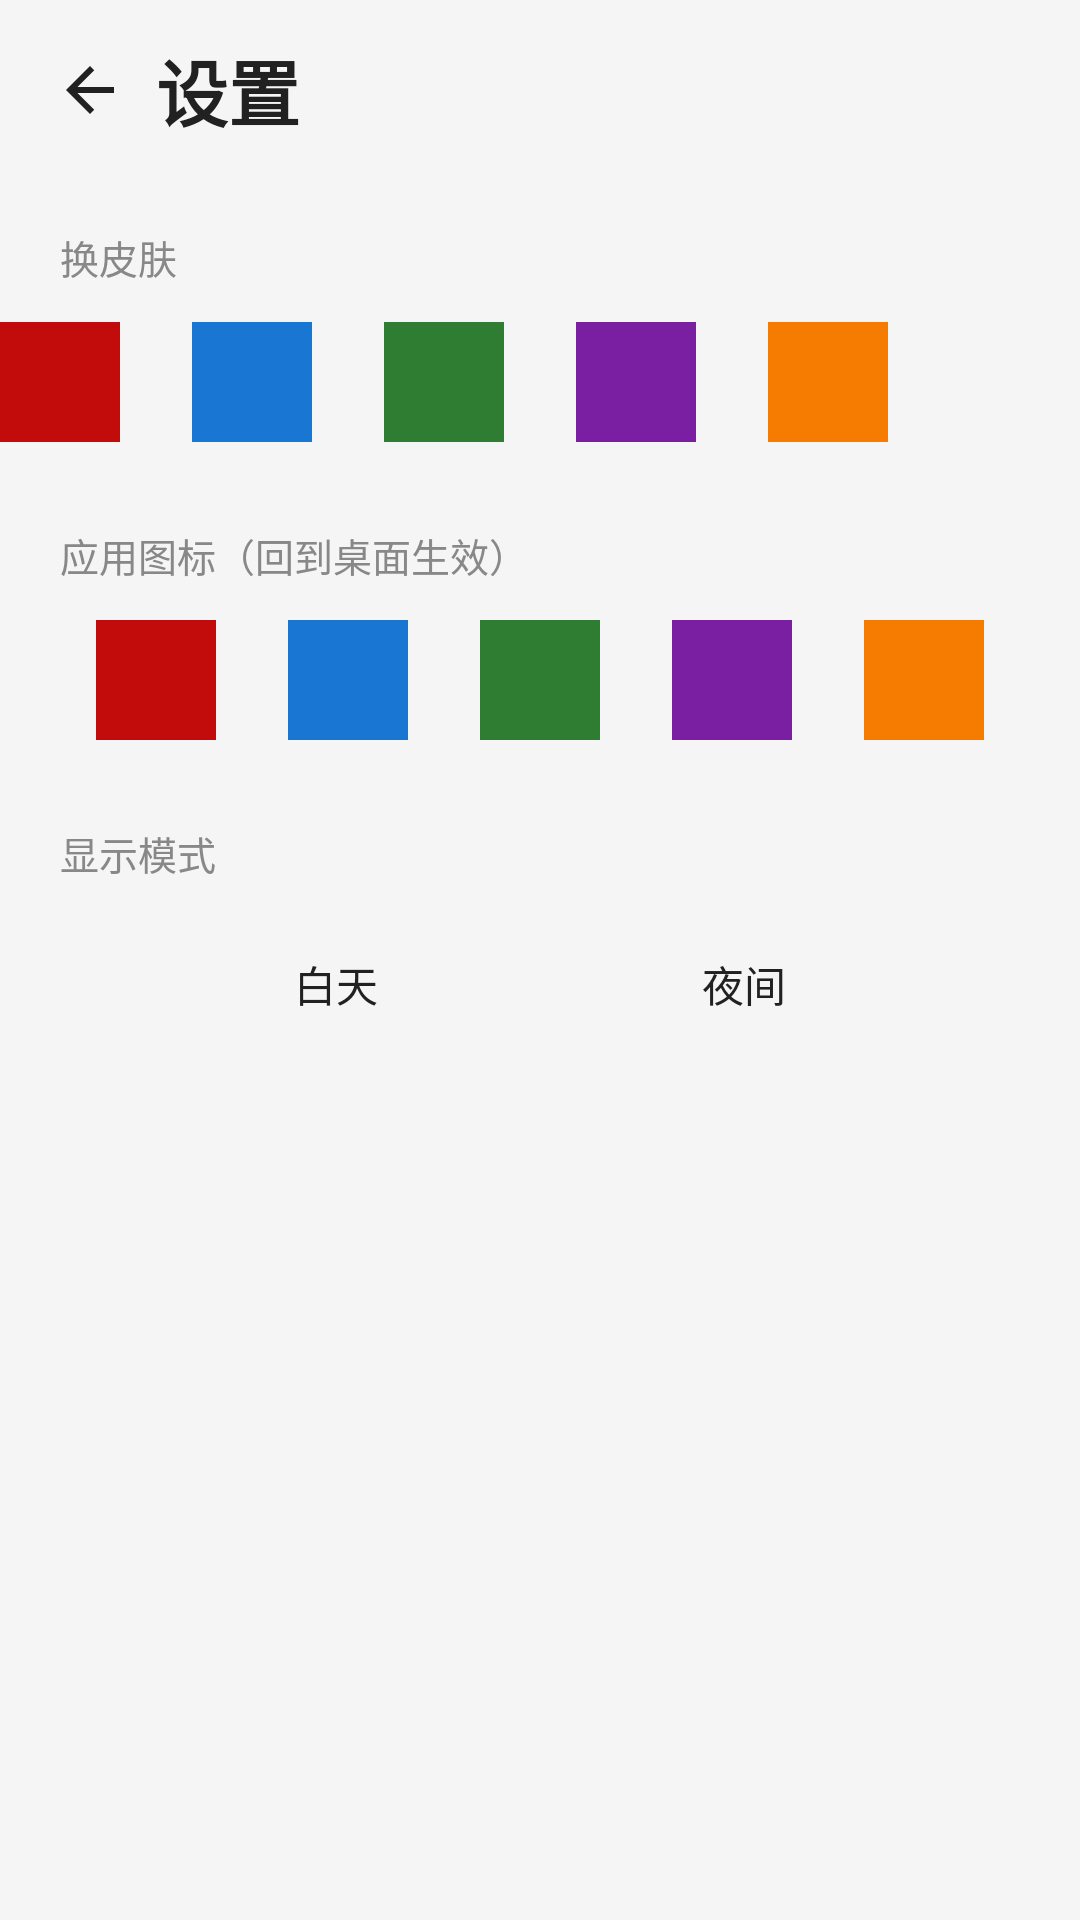

Where to tap for icons on this 1080px x 1920px app screen, as (x=x, y=y):
返回: (x=90, y=90)
